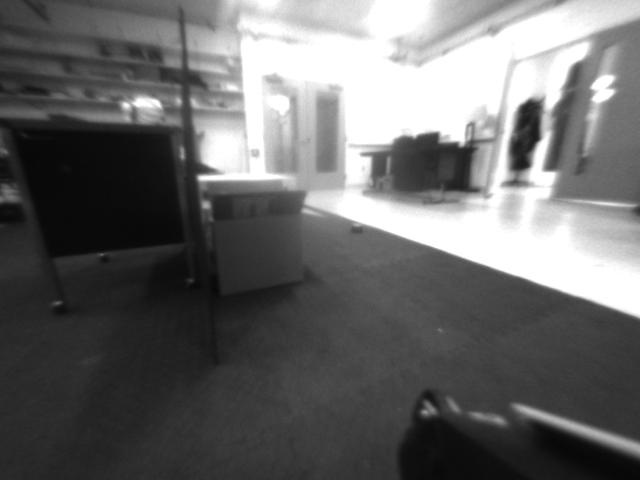dogtoy: (343, 216, 368, 241)
